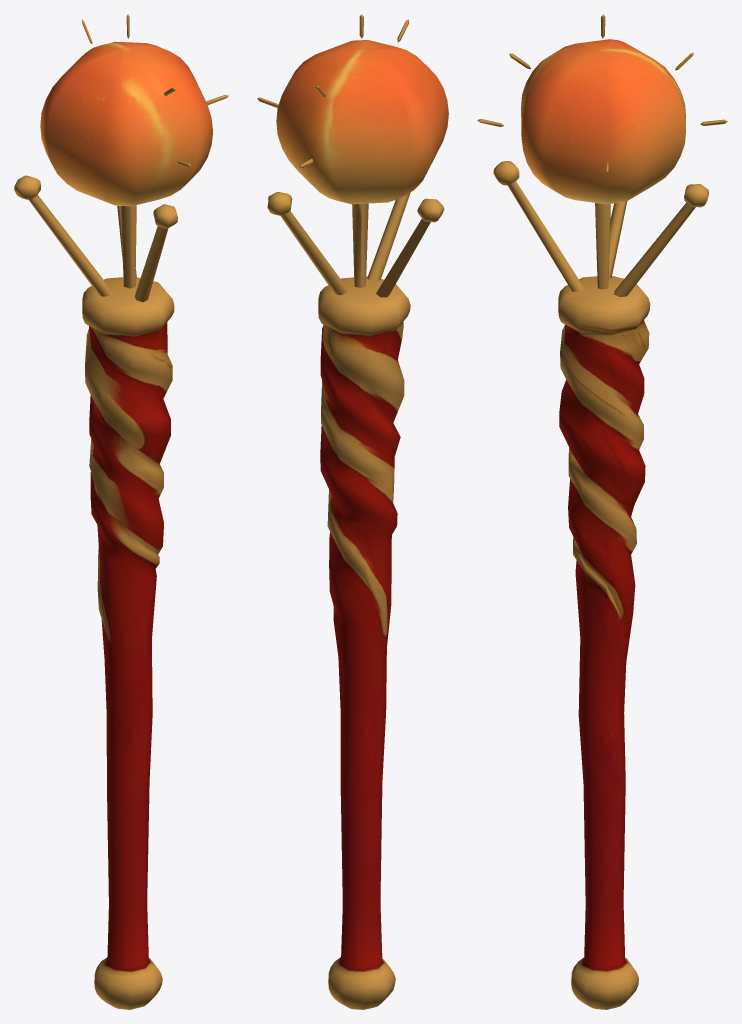
File: emberwish_mote_of_the_dying_sun.glb
3 renders of one model, left to right at view 1: azimuth 30°, elevation 25°; view 2: azimuth 150°, elevation 25°; view 3: azimuth 270°, elevation 25°, orthographic.
Parts seen in each view (by area): view 1: tripo_node_fee27c45-7a76-46ea-8ef6-8ab8e2d7ffe0; view 2: tripo_node_fee27c45-7a76-46ea-8ef6-8ab8e2d7ffe0; view 3: tripo_node_fee27c45-7a76-46ea-8ef6-8ab8e2d7ffe0.
Boxes of the visible parts, x1,y1,x2,y2 form: tripo_node_fee27c45-7a76-46ea-8ef6-8ab8e2d7ffe0: (14,14,228,1009); tripo_node_fee27c45-7a76-46ea-8ef6-8ab8e2d7ffe0: (257,14,448,1009); tripo_node_fee27c45-7a76-46ea-8ef6-8ab8e2d7ffe0: (477,14,727,1009).
Size of the model in its own units: 0.2284 by 1.09 by 0.2497.
Materials: 1 (1 with a texture image).
